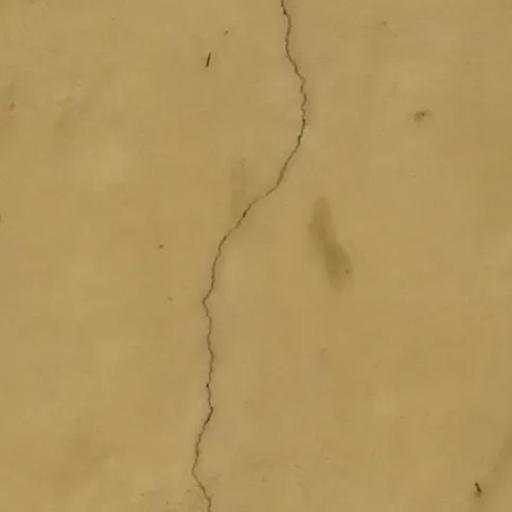minor_crack: (181, 0, 321, 512)
